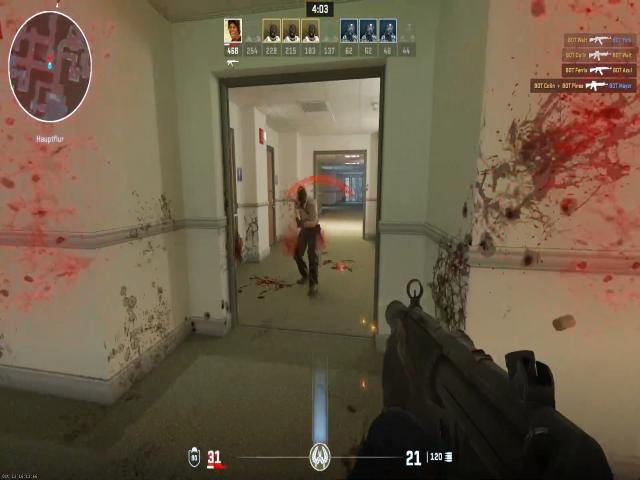T: (296, 186, 322, 234)
T-Head: (296, 187, 310, 208)
